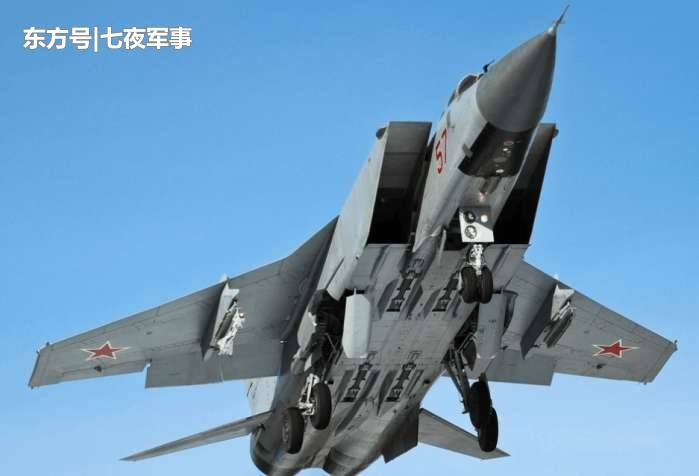airplane: (23, 1, 680, 470)
